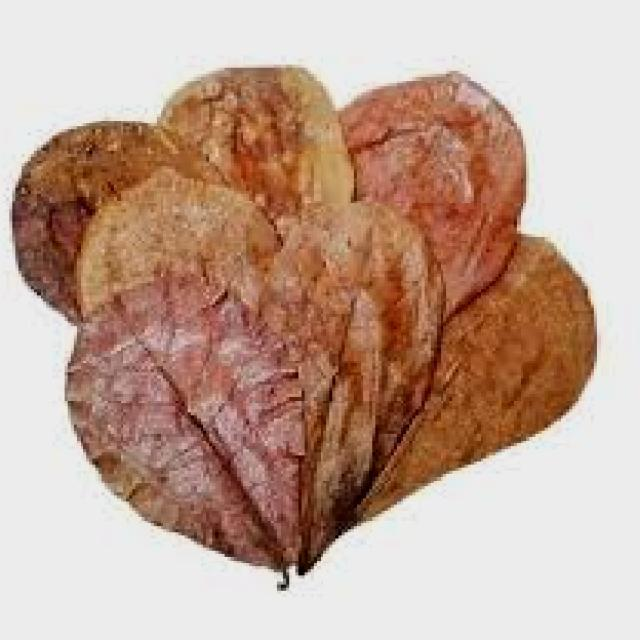banana_leaf: (11, 62, 597, 589)
